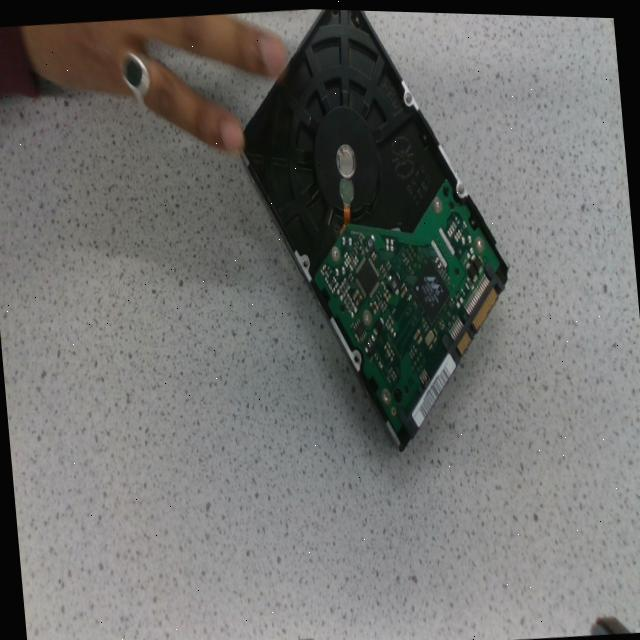case: (241, 8, 507, 446)
pcb: (312, 175, 499, 437)
screw: (432, 192, 442, 210), (330, 243, 340, 260), (362, 307, 371, 325), (380, 386, 390, 402), (475, 233, 483, 249)
